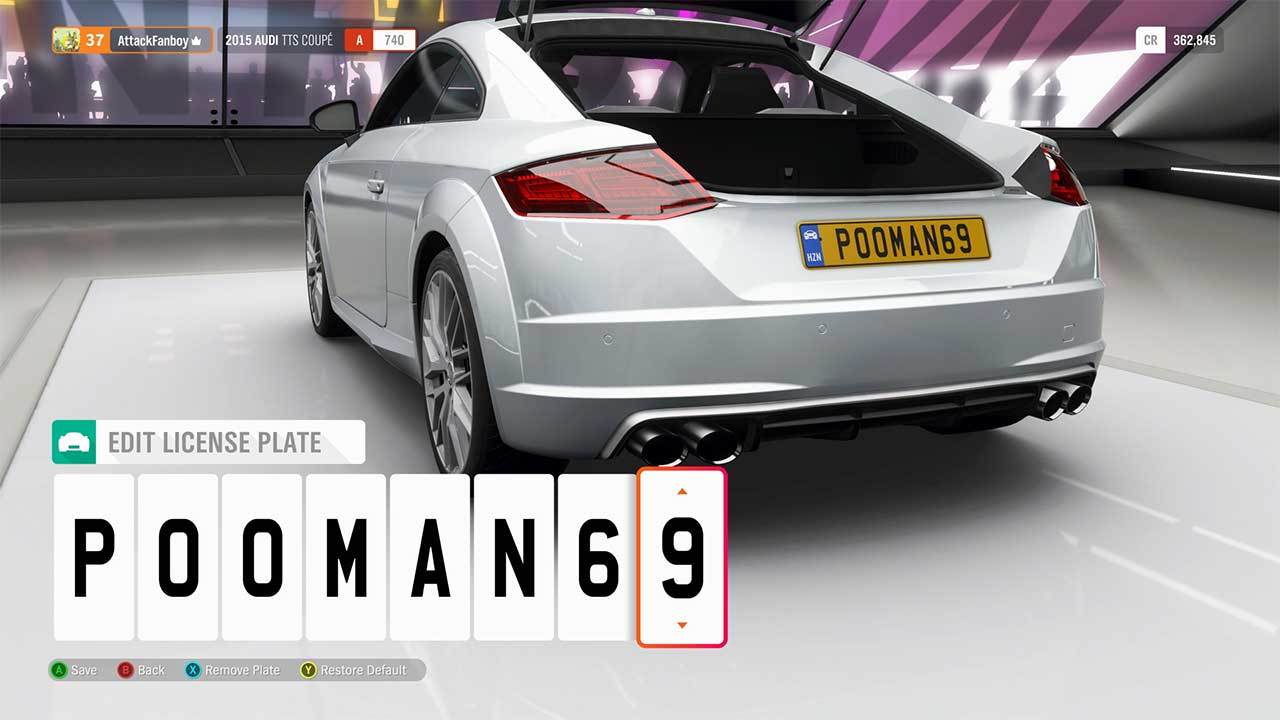license plate: (788, 212, 998, 271)
